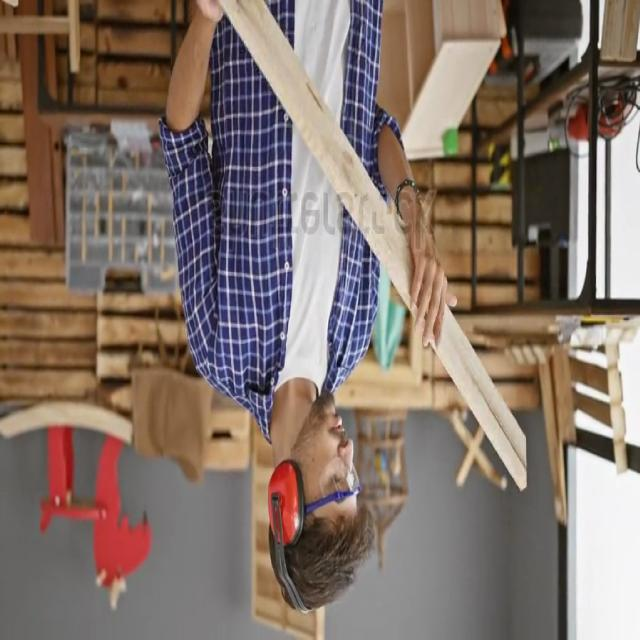Ear-Protection: (264, 444, 309, 560)
Glasses: (314, 460, 367, 513)
